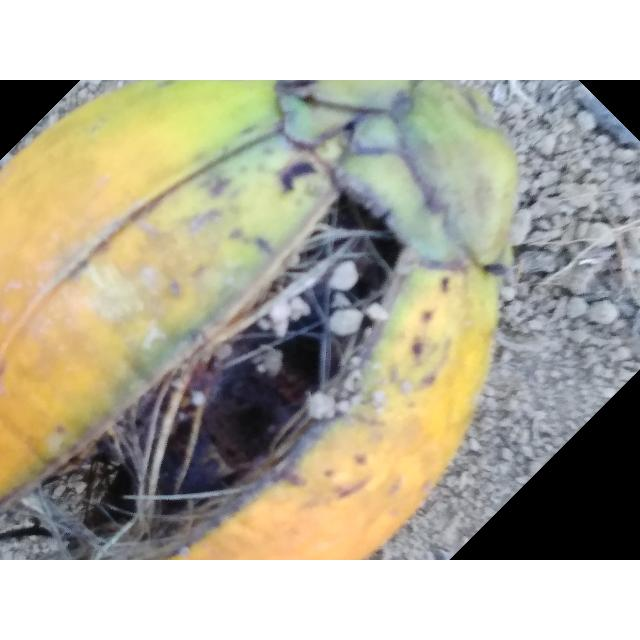damaged: (0, 80, 518, 560)
